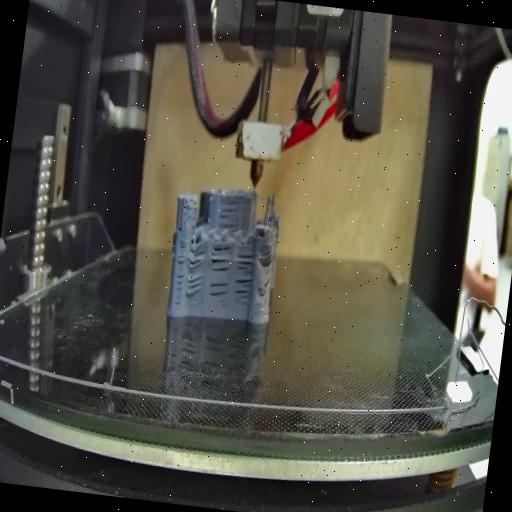cracks: (170, 244, 188, 308), (217, 195, 244, 231), (209, 244, 235, 275), (232, 276, 254, 304), (207, 278, 230, 302), (188, 247, 208, 270), (184, 276, 206, 296), (236, 252, 255, 272), (263, 249, 276, 267), (264, 275, 271, 293), (177, 220, 184, 234)
